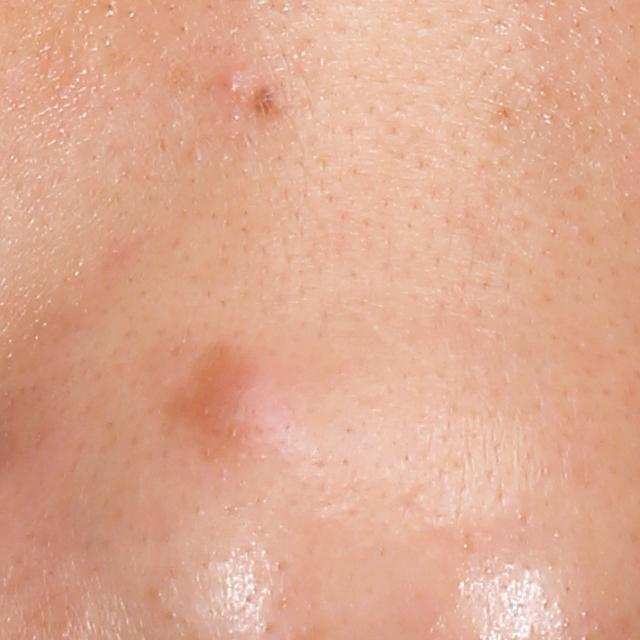nevus: (250, 84, 278, 120)
papule: (189, 350, 287, 441)
